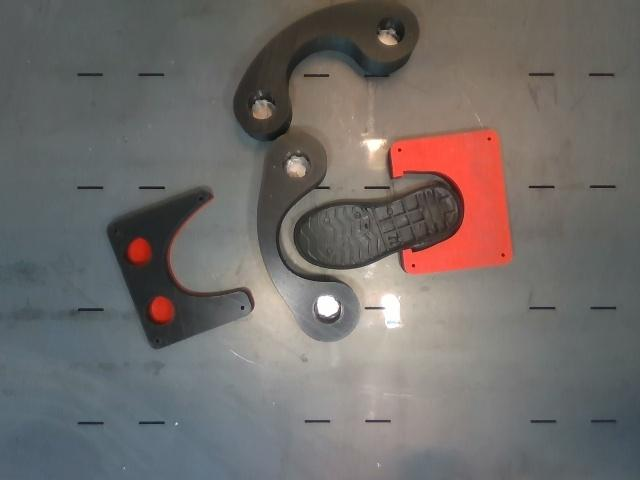shoes: (296, 188, 459, 267)
